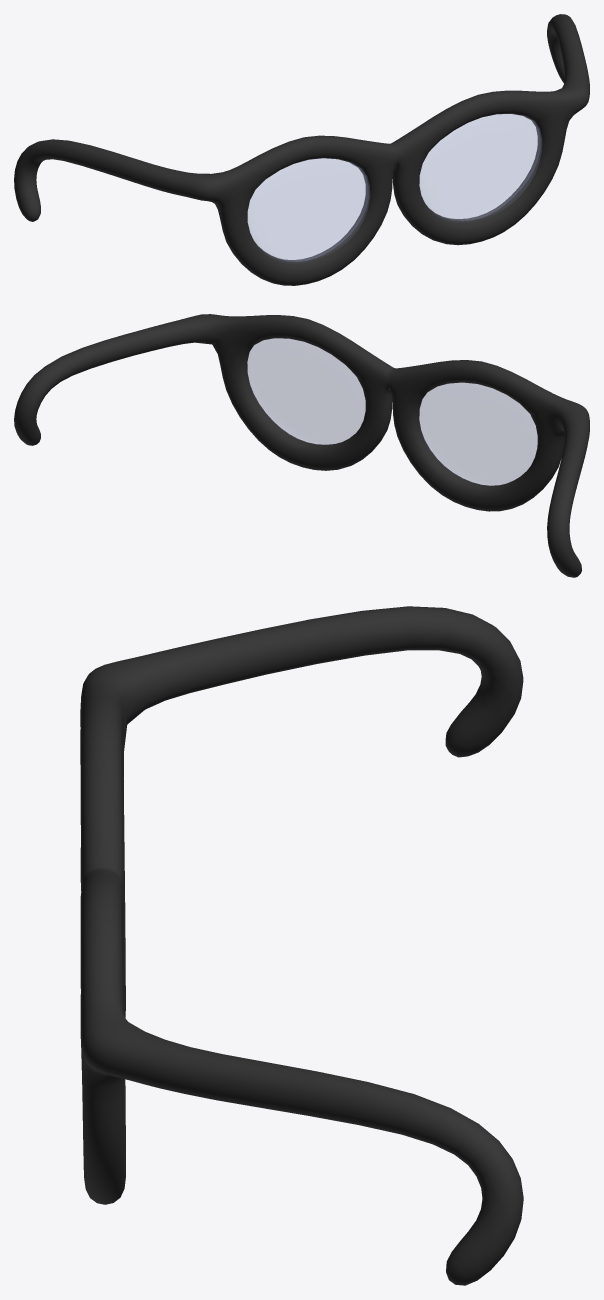
File: Glasses.glb
3 renders of one model, top to bottom at view 1: azimuth 30°, elevation 25°; view 2: azimuth 150°, elevation 25°; view 3: azimuth 270°, elevation 25°, orthographic. The views are drawn at different scales.
Parts seen in each view (by area): view 1: HotGlasses_2658.Shape; view 2: HotGlasses_2658.Shape; view 3: HotGlasses_2658.Shape.
Boxes of the visible parts, x1,y1,x2,y2 form: HotGlasses_2658.Shape: (14, 14, 589, 285); HotGlasses_2658.Shape: (14, 314, 589, 577); HotGlasses_2658.Shape: (80, 606, 523, 1285).
Size of the model in its own units: 14.44 by 3.61 by 4.96.
